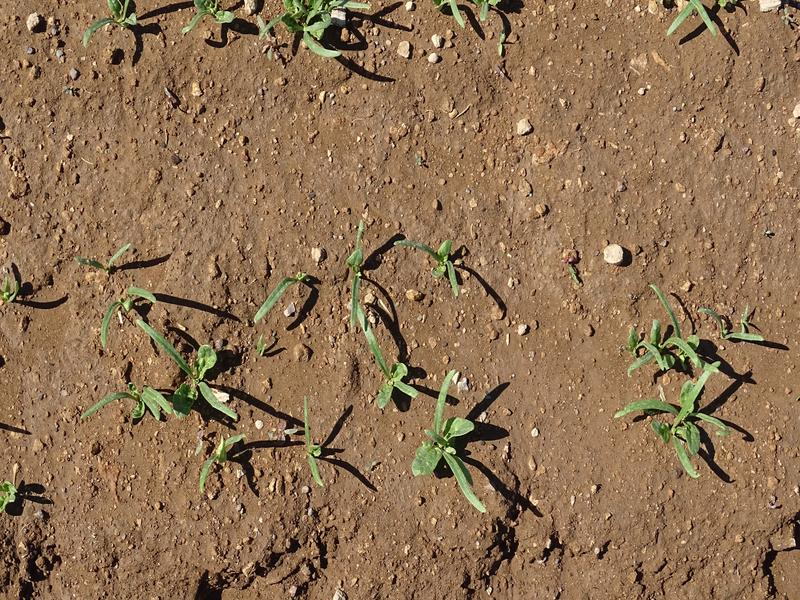Espinaca: (97, 272, 327, 489), (352, 232, 500, 506), (621, 287, 755, 465), (85, 1, 504, 39), (666, 3, 712, 39)
